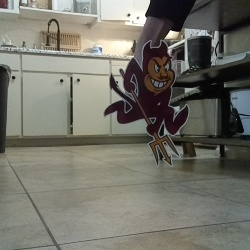sparky: (101, 38, 190, 167)
